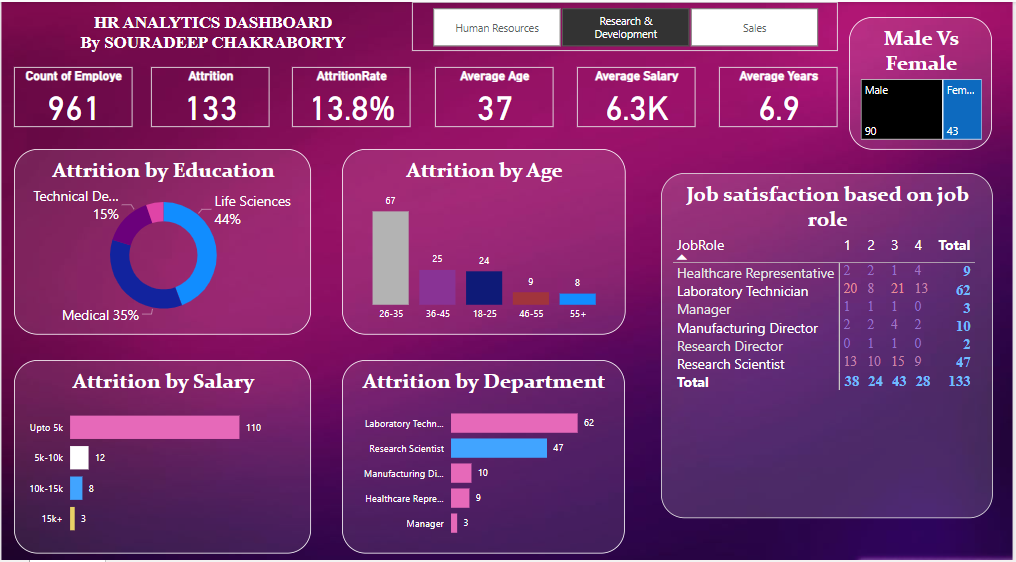

What the dashboard file says about the page in this screenshot:
{"tool":"powerbi","page":{"name":"Page 1","canvas":[1280,720],"ordinal":0},"visuals":[{"type":"card","title":"Count of Employe","fields":{"Values":["CountNonNull(HR_Analytics.EmpID)"]},"box":[16.8,82.3,149.5,75.6],"z":0},{"type":"card","title":"Attrition","fields":{"Values":["Sum(HR_Analytics.AttritionCount)"]},"box":[189.8,82.3,149.5,75.6],"z":1000},{"type":"card","title":"Average Age","fields":{"Values":["Avg(HR_Analytics.Age)"]},"box":[549.3,82.3,149.5,75.6],"z":2000},{"type":"card","title":"AttritionRate","fields":{"Values":["HR_Analytics.AttritionRate"]},"box":[367.9,82.3,149.5,75.6],"z":3000},{"type":"card","title":"Average Salary","fields":{"Values":["Avg(HR_Analytics.MonthlyIncome)"]},"box":[729,82.3,149.5,75.6],"z":4000},{"type":"card","title":"Average Years","fields":{"Values":["Avg(HR_Analytics.YearsAtCompany)"]},"box":[908.8,82.3,149.5,75.6],"z":5000},{"type":"donutChart","title":"Attrition by Education","fields":{"Category":["HR_Analytics.EducationField"],"Y":["Sum(HR_Analytics.AttritionCount)"]},"box":[16.8,186.5,376.3,235.2],"z":6000},{"type":"columnChart","title":"Attrition by Age","fields":{"Category":["HR_Analytics.AgeGroup"],"Y":["Sum(HR_Analytics.AttritionCount)"]},"box":[431.7,186.5,359.5,235.2],"z":7000},{"type":"pivotTable","title":"Job satisfaction based on job role","fields":{"Rows":["HR_Analytics.JobRole"],"Columns":["HR_Analytics.JobSatisfaction"],"Values":["Sum(HR_Analytics.AttritionCount)"]},"box":[834.9,250.3,419.9,341],"z":8000},{"type":"barChart","title":"Attrition by Salary","fields":{"Category":["HR_Analytics.SalarySlab"],"Y":["Sum(HR_Analytics.AttritionCount)"]},"box":[16.8,453.5,376.3,245.2],"z":9000},{"type":"barChart","title":"Attrition by Department ","fields":{"Category":["HR_Analytics.JobRole"],"Y":["Sum(HR_Analytics.AttritionCount)"]},"box":[431.7,453.5,357.8,245.2],"z":10000},{"type":"slicer","fields":{"Values":["HR_Analytics.Department"]},"box":[520.7,0,539.2,62.2],"z":11000},{"type":"treemap","title":"Male Vs Female","fields":{"Group":["HR_Analytics.Gender"],"Values":["Sum(HR_Analytics.AttritionCount)"]},"box":[1073.4,18.5,181.4,211.7],"z":12000},{"type":"textbox","box":[16.8,18.5,500.6,43.7],"z":12001}]}

Visuals, with their boxes in screenshot pixels (x1, y1, x2, y2), scaled from the page's 1280x720 canvas onto the 1016x562 screenshot:
"Count of Employe" card: <region>13, 64, 132, 123</region>
"Attrition" card: <region>151, 64, 269, 123</region>
"Average Age" card: <region>436, 64, 555, 123</region>
"AttritionRate" card: <region>292, 64, 411, 123</region>
"Average Salary" card: <region>579, 64, 697, 123</region>
"Average Years" card: <region>721, 64, 840, 123</region>
"Attrition by Education" donutChart: <region>13, 146, 312, 329</region>
"Attrition by Age" columnChart: <region>343, 146, 628, 329</region>
"Job satisfaction based on job role" pivotTable: <region>663, 195, 996, 462</region>
"Attrition by Salary" barChart: <region>13, 354, 312, 545</region>
"Attrition by Department " barChart: <region>343, 354, 627, 545</region>
slicer - HR_Analytics.Department: <region>413, 0, 841, 49</region>
"Male Vs Female" treemap: <region>852, 14, 996, 180</region>
textbox: <region>13, 14, 411, 49</region>
